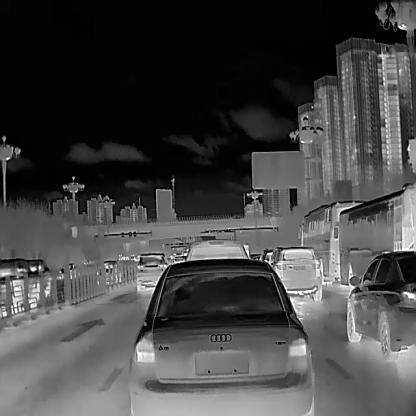bus: (331, 178, 415, 296), (296, 198, 370, 286)
car: (124, 255, 315, 415), (344, 247, 416, 362), (266, 244, 322, 301), (0, 256, 51, 315), (187, 237, 249, 261), (136, 251, 168, 289), (96, 259, 121, 284), (57, 262, 80, 280), (259, 248, 274, 262), (174, 252, 184, 262)
